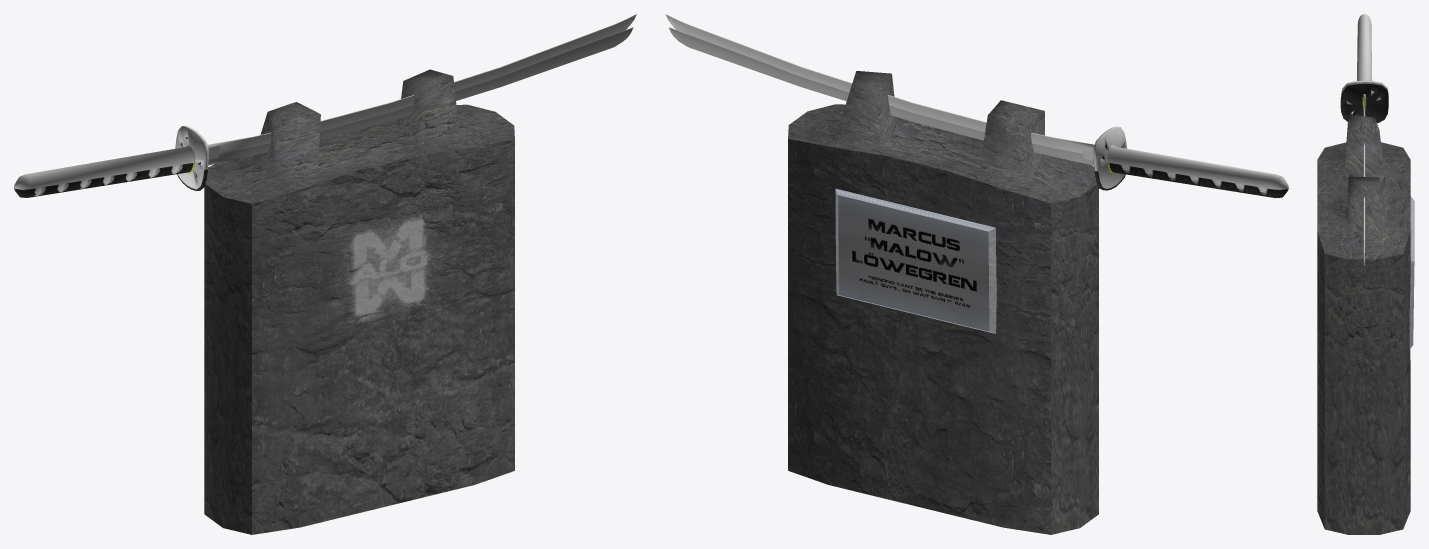
Rendered from MaloWGravestone.obj.
The picture shows the model from 3 angles, left to right: view 1: azimuth 30°, elevation 25°; view 2: azimuth 150°, elevation 25°; view 3: azimuth 270°, elevation 25°; orthographic projection. The views are drawn at different scales.
Parts seen in each view (by area): view 1: pCube3, Katana1:temp:default1; view 2: pCube3, pCube4, Katana1:temp:default1; view 3: pCube3, Katana1:temp:default1, pCube4.
Boxes of the visible parts, x1=… form: pCube3: x1=204, y1=69, x2=514, y2=534; Katana1:temp:default1: x1=14, y1=14, x2=636, y2=197; pCube3: x1=788, y1=71, x2=1098, y2=534; pCube4: x1=835, y1=188, x2=996, y2=333; Katana1:temp:default1: x1=665, y1=14, x2=1288, y2=198; pCube3: x1=1317, y1=114, x2=1410, y2=534; Katana1:temp:default1: x1=1340, y1=14, x2=1388, y2=266; pCube4: x1=1409, y1=196, x2=1414, y2=348.
Bounding box in the file's own units: 42.32 × 26.25 × 6.89.
8 materials, 7 textured.
